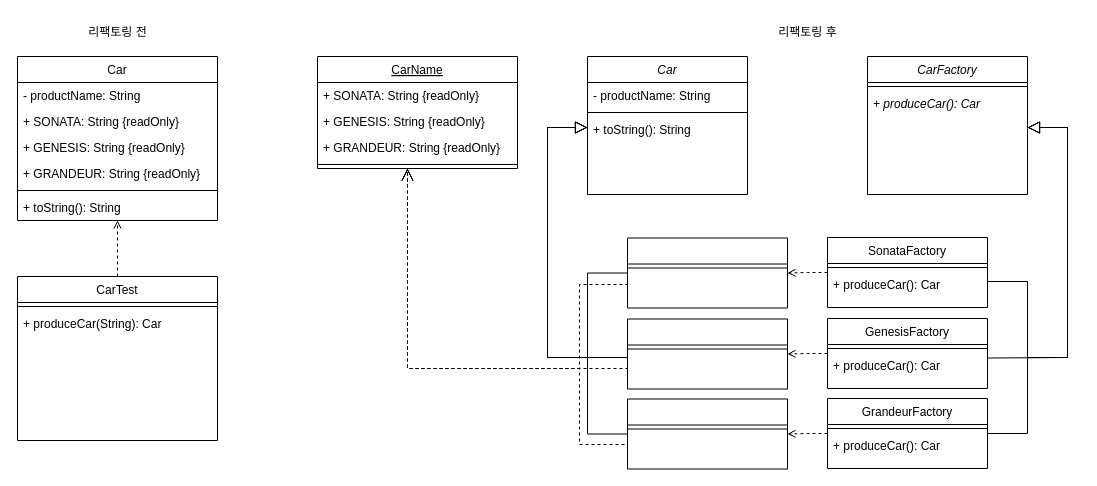
Image size: 1097x486. Some labels were removed from this diagram. Here are the shapes that lost their labels. From the top down, the centre of each, then its label:
the point at 707,272: Sonata
the point at 707,353: Genesis
the point at 707,433: Grandeur
